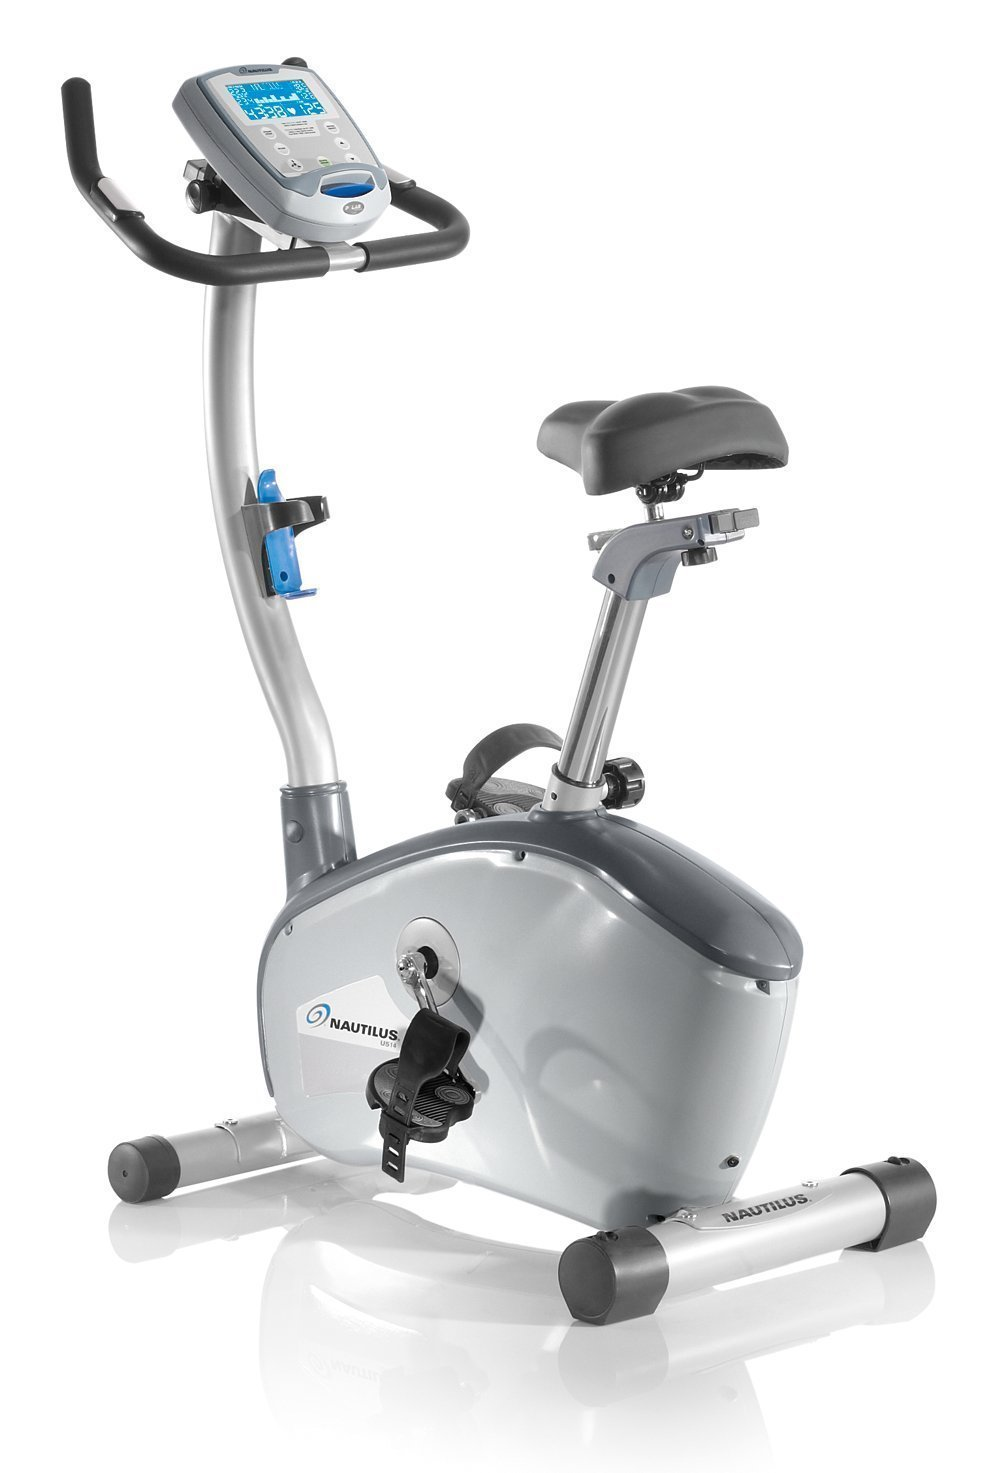gym_bike: (40, 39, 969, 1329)
